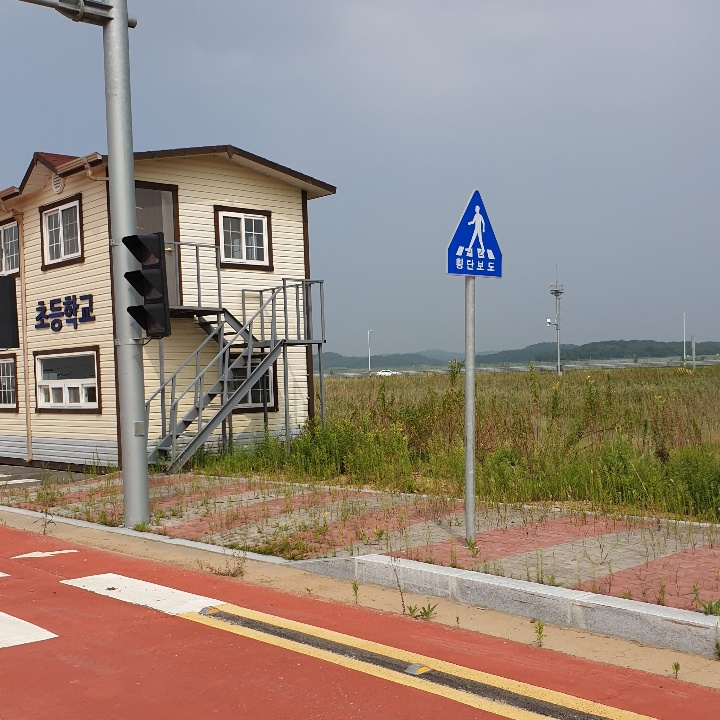cross: (459, 201, 495, 255)
